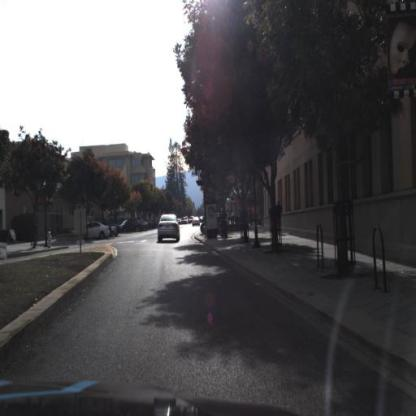car: (70, 219, 110, 243), (158, 213, 181, 245)
pedestrian: (275, 199, 285, 239)
